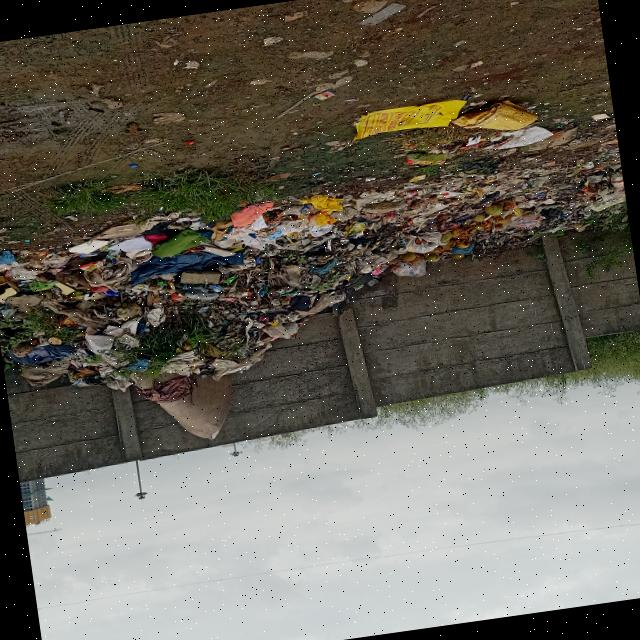garbage: (253, 104, 632, 299), (0, 166, 297, 411)
